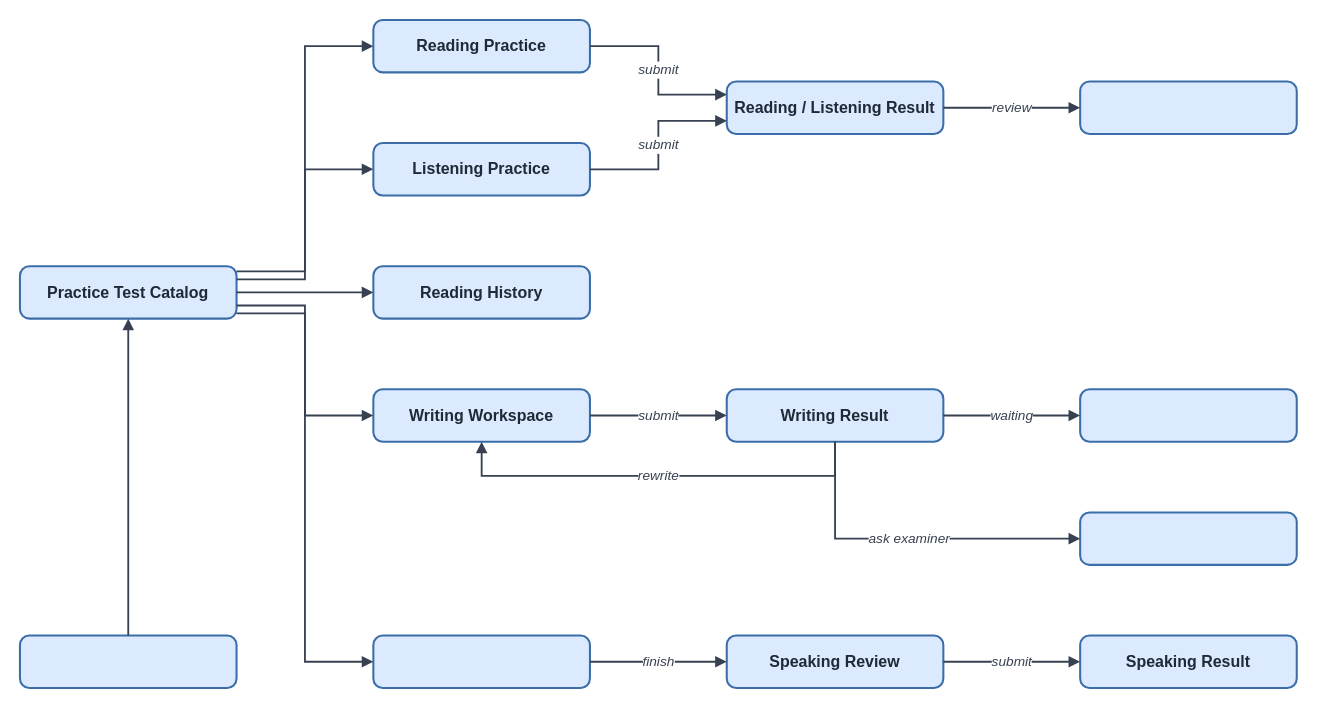
Some shapes in this 1318 by 709 pixel diagram are drawn without their labels. The shapes that lost their labels are listed below. From the top down, each one's centre as x and y in pixels, then its label:
At pixel 1188 107: "Answer Review".
At pixel 1188 415: "Grading Job".
At pixel 1188 538: "Examiner Reviews".
At pixel 127 661: "Submission History".
At pixel 481 661: "Speaking Workspace".
